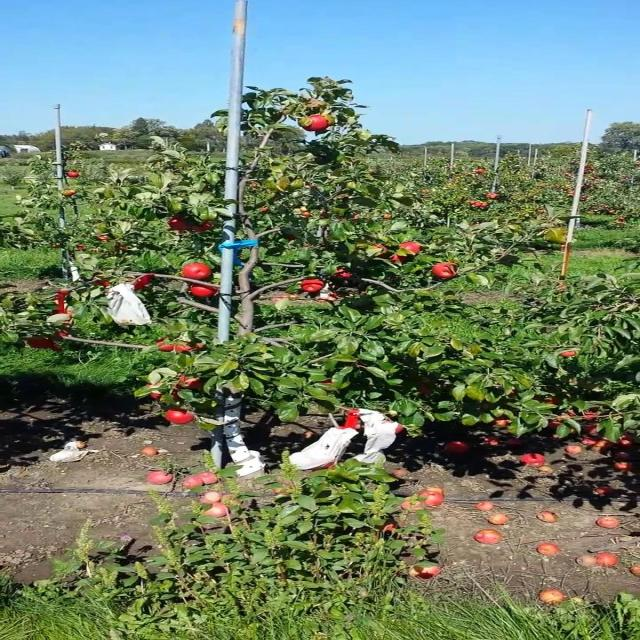apple: (148, 384, 183, 400), (184, 264, 213, 280), (547, 412, 576, 428), (49, 332, 71, 352), (433, 264, 460, 280), (305, 116, 332, 132), (191, 284, 219, 299), (177, 376, 206, 389), (177, 344, 206, 356), (170, 412, 197, 424), (28, 336, 52, 348), (333, 268, 356, 280), (305, 280, 327, 292), (156, 340, 178, 352), (532, 396, 562, 404), (134, 276, 151, 290), (305, 464, 334, 472), (376, 244, 391, 259), (170, 220, 190, 231), (582, 424, 599, 436), (404, 244, 421, 255), (497, 416, 512, 428), (419, 384, 434, 396), (191, 224, 213, 232), (92, 280, 112, 288), (56, 332, 71, 342), (390, 256, 407, 264), (582, 412, 597, 420), (561, 352, 576, 357), (397, 424, 405, 432)
